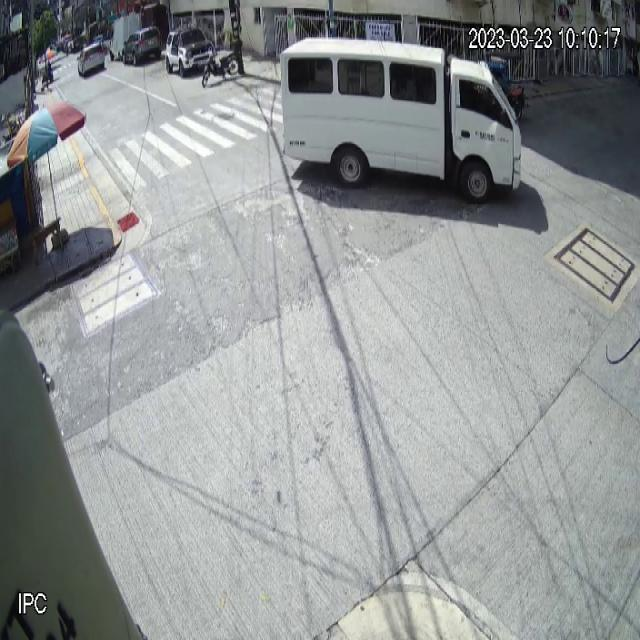Van: (280, 35, 524, 200)
